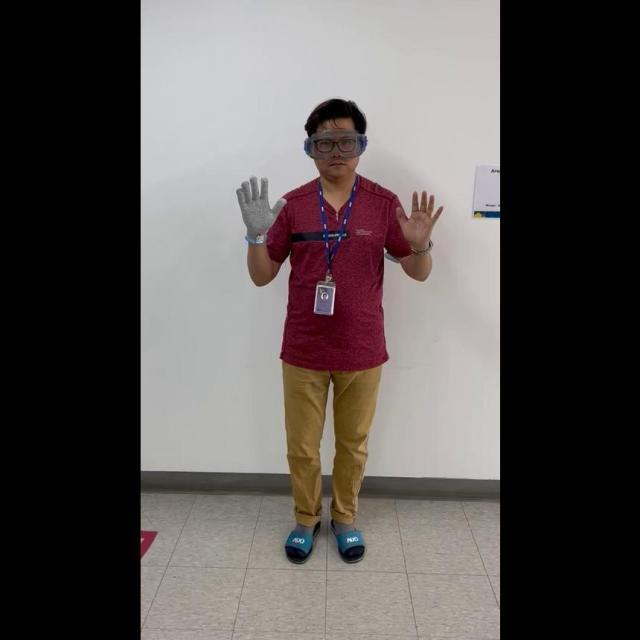bare_hand: (392, 185, 443, 250)
gloved_hand: (234, 174, 286, 243)
